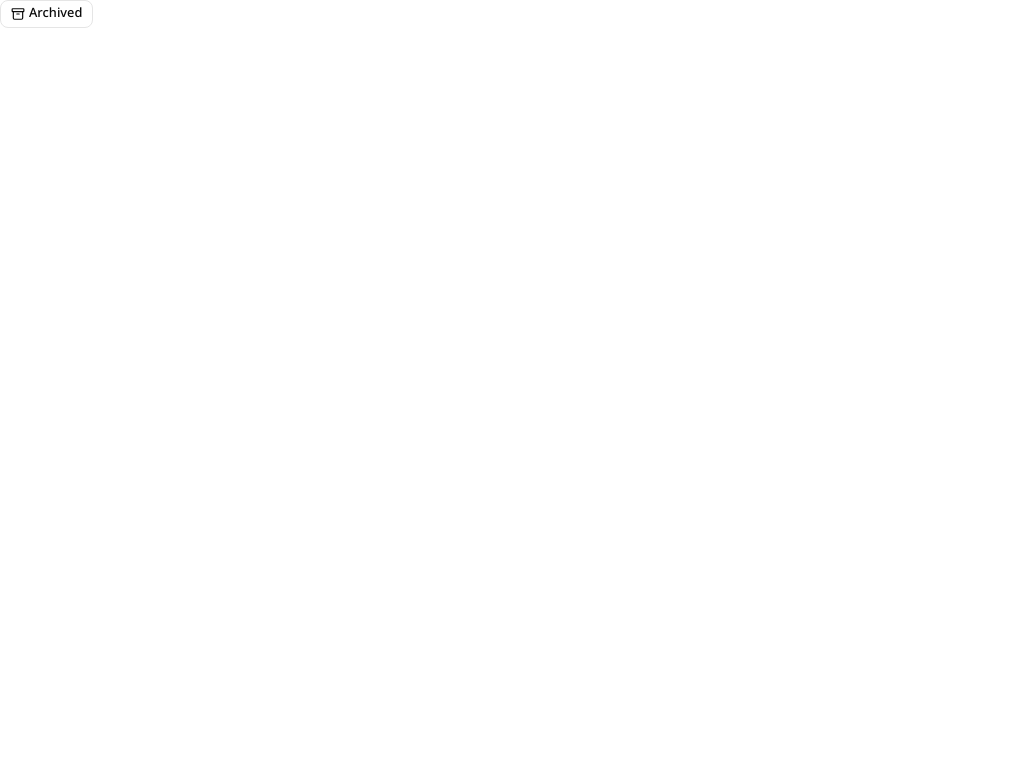
Test: ArchivedSheet › a member restores cards but gets no list Restore (the server would answer 403)
Click the button "Archived" at point(47, 14), box [0,0,93,28]
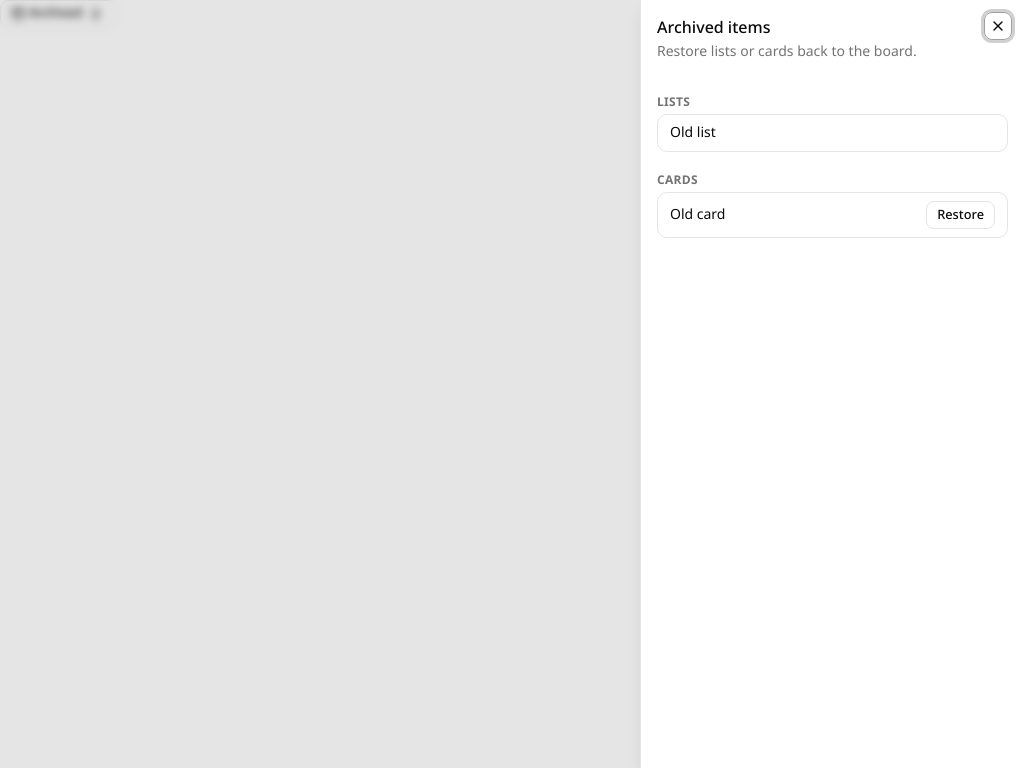
Result: the text "Old card" is shown at [670,204,726,225]
Result: the button with aria-label "Restore Old card" is shown at [926,201,995,229]
Result: the text "Old list" is shown at [670,122,716,143]
